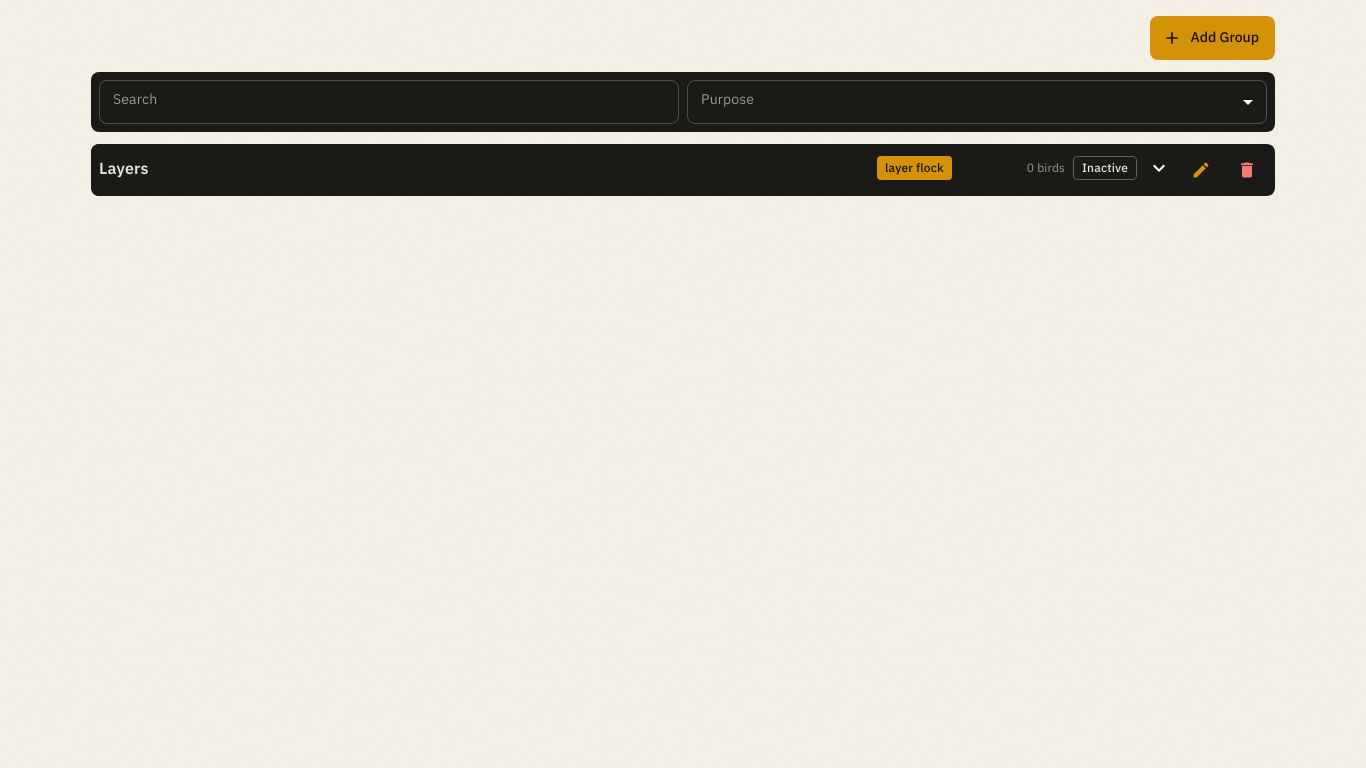
Test case: FlockGeek edit-form date prefill (utcDateString round trip, TZ=America/Chicago) › GroupsPage: prefills Start Date and End Date
This screenshot has width=1366, height=768.
Click the button named "Edit Layers" at (1201, 170), box [1179,148,1223,192]
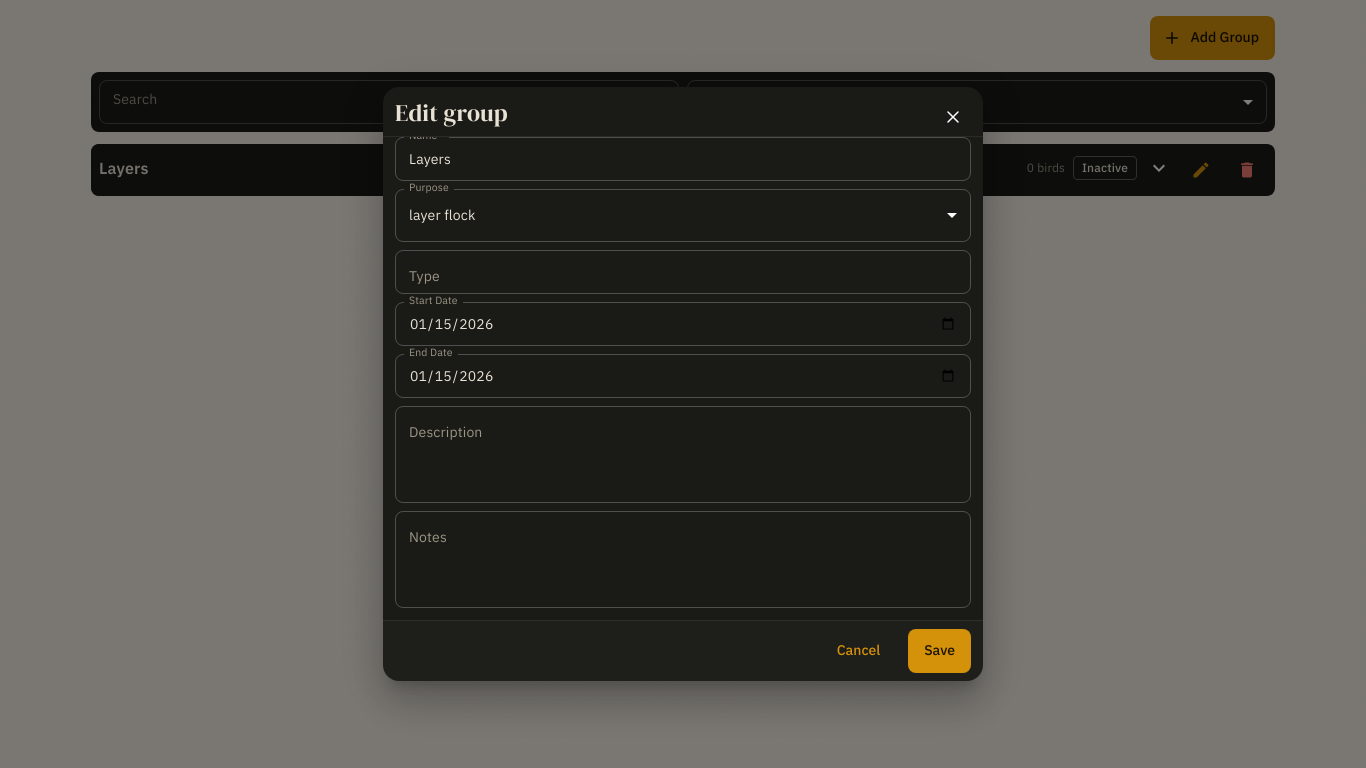
Expected: the date field labelled "Start Date" holds "2026-01-15", [395,302,971,346]
Expected: the date field labelled "End Date" holds "2026-01-15", [395,354,971,398]
